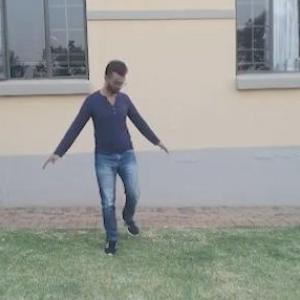land: (47, 49, 188, 259)
